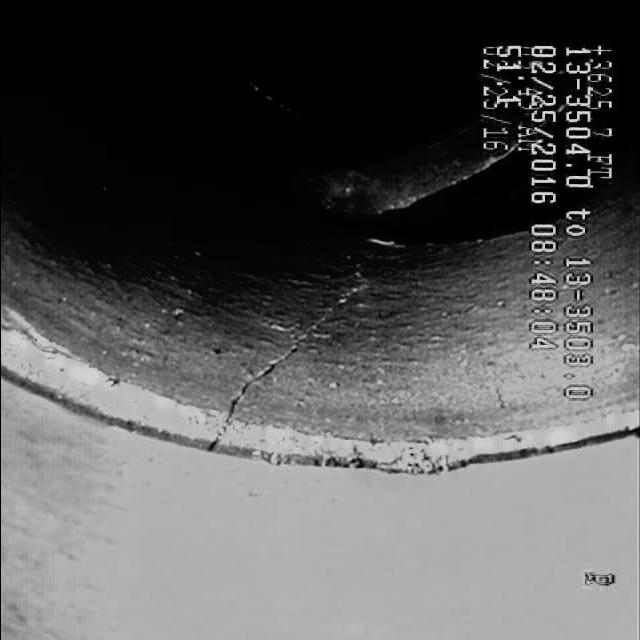Crack: (212, 276, 371, 438)
